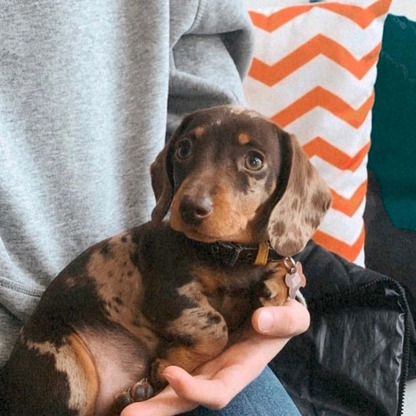dachshund: (32, 79, 328, 383)
